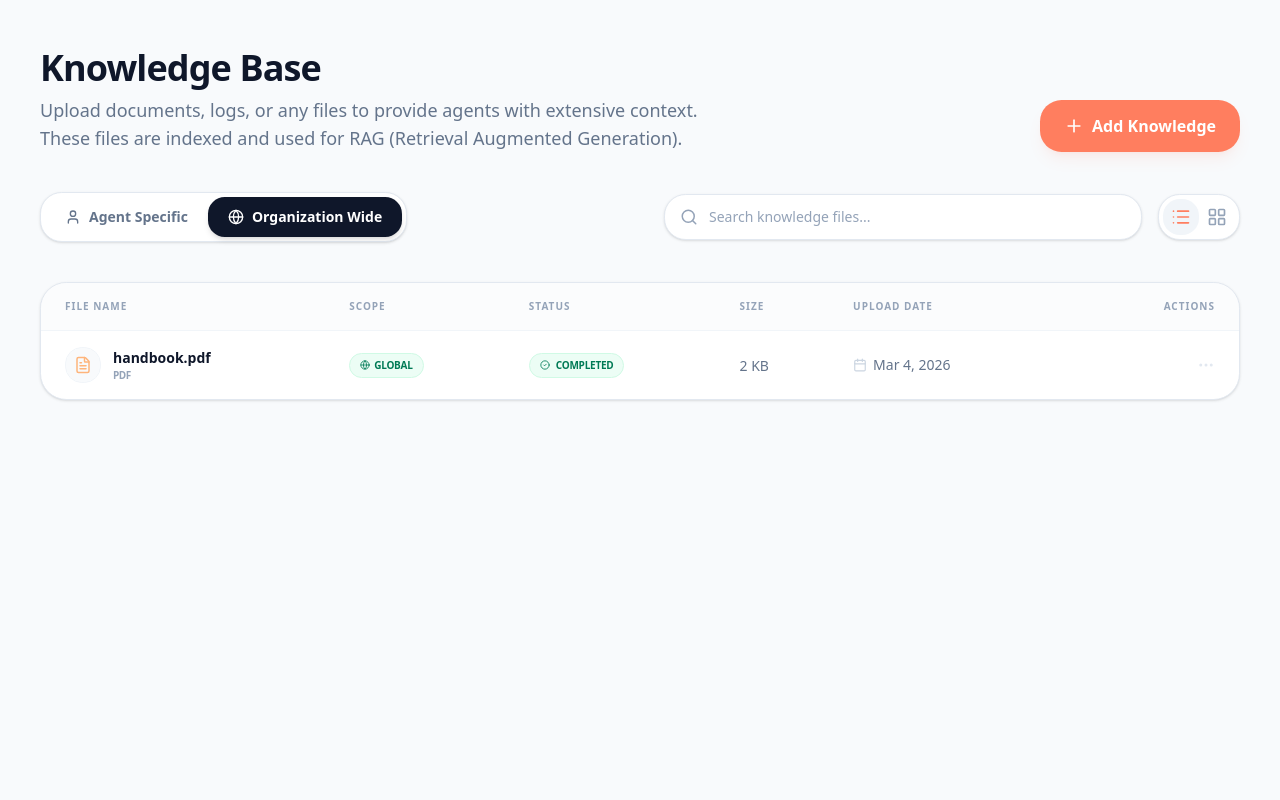
Scenario: the knowledge base page › opens the upload modal
Expected: the text "handbook.pdf" is shown, 113,348 -> 211,368
Click the button "Add Knowledge" at (1140,126), box 1040,100 -> 1240,152
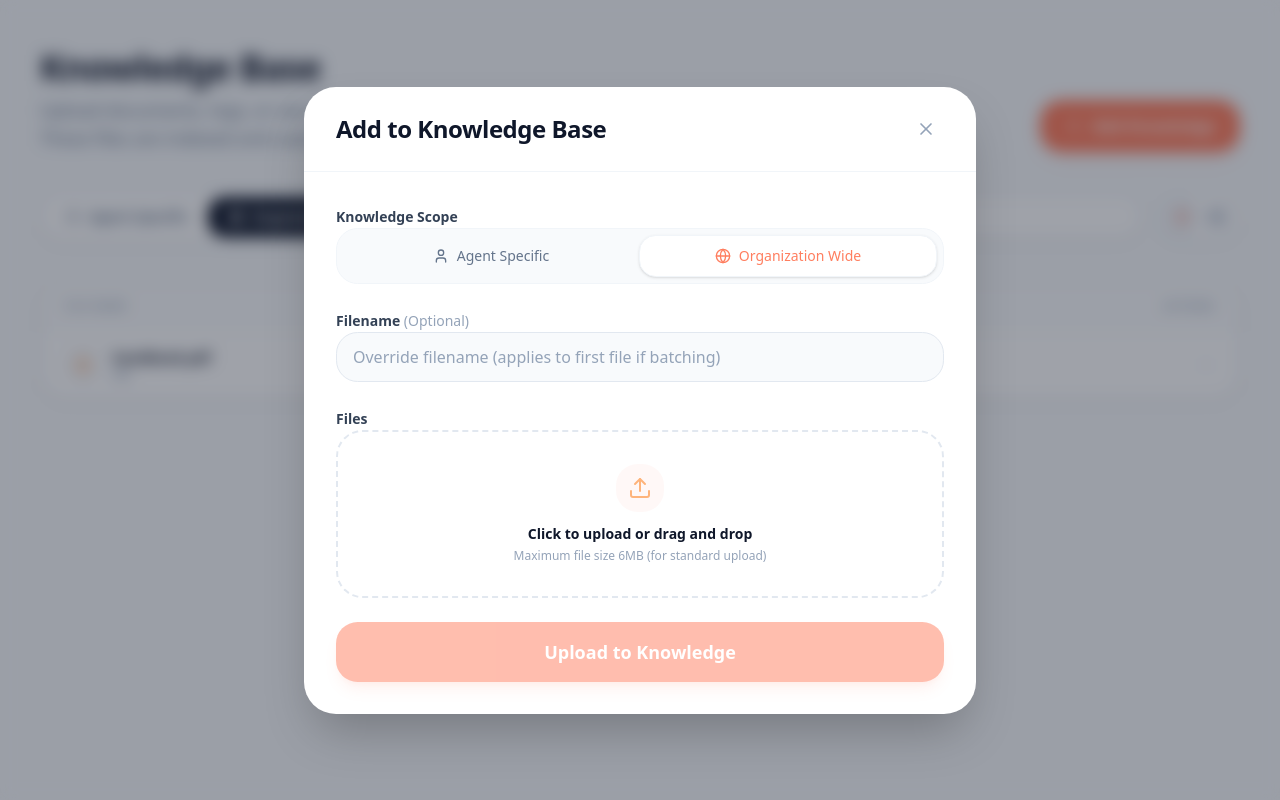
Now the heading "Add to Knowledge Base" is shown, box 336,112 -> 606,144
